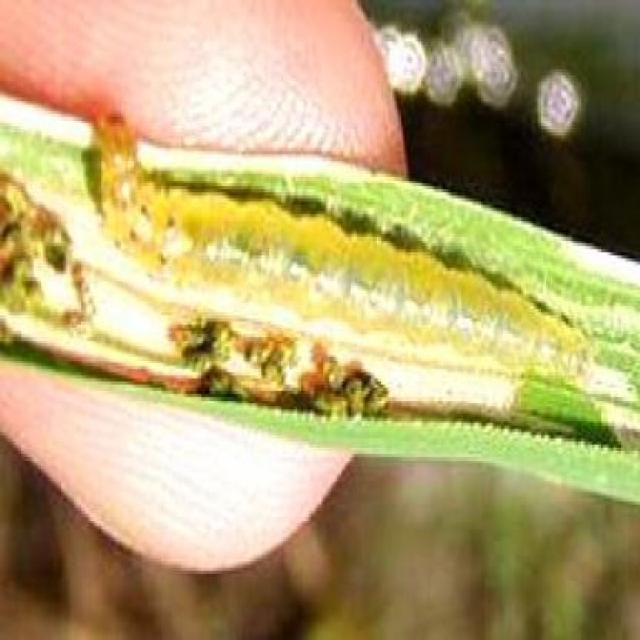leaf-folder: (93, 96, 598, 390)
